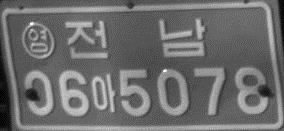0: (156, 68, 190, 118), (23, 69, 54, 117)
5: (118, 69, 152, 118)
6: (57, 69, 91, 118)
7: (192, 66, 227, 117)
8: (233, 66, 269, 116)
아: (90, 72, 116, 113)
영: (20, 22, 55, 59)
전남_D: (63, 17, 206, 60)
